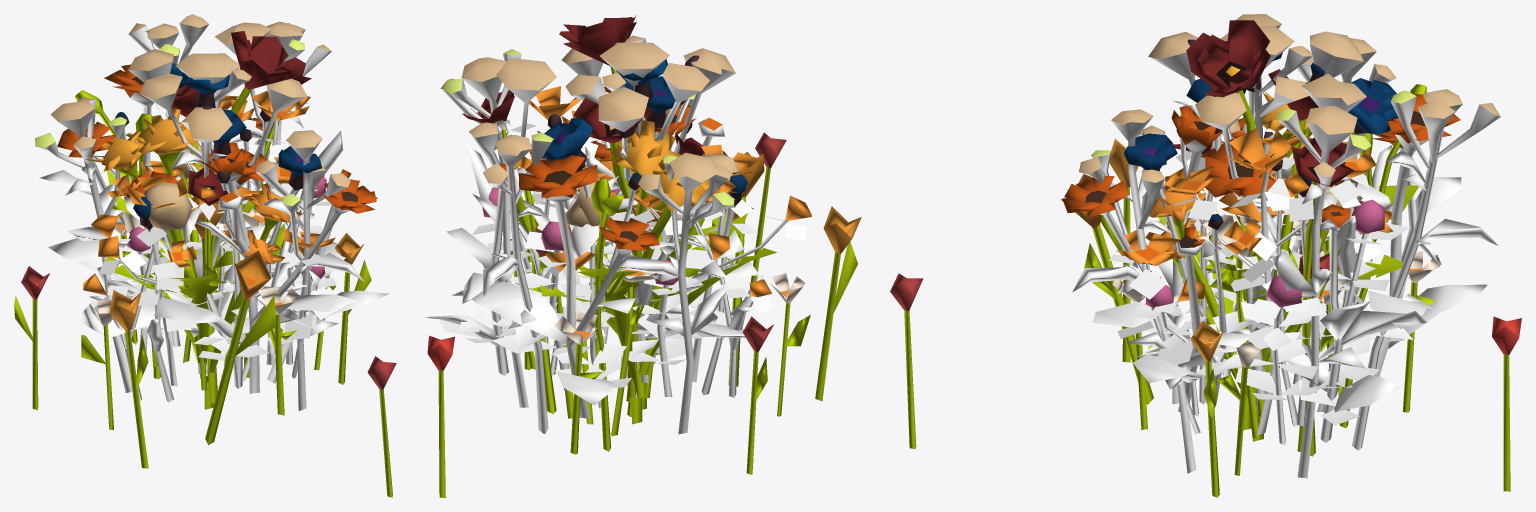
Rendered from g_flower.glb.
3 views of the same model, side by side, from view 1: azimuth 30°, elevation 25°; view 2: azimuth 150°, elevation 25°; view 3: azimuth 270°, elevation 25° (orthographic). The views are drawn at different scales.
Visible parts, largest first — view 1: v12, v1, v11, v14, v4, v9, v8, v7, v5, v2, v0, v3 (+2 smaller); view 2: v12, v1, v2, v11, v14, v4, v9, v5, v7, v8, v3, v0 (+1 smaller); view 3: v12, v1, v11, v2, v4, v14, v9, v5, v7, v0, v8, v3 (+1 smaller).
Part boxes in pixels (left/top/right/bottom): v12: left=35, top=14, right=364, bottom=410; v1: left=40, top=64, right=389, bottom=393; v11: left=67, top=90, right=345, bottom=386; v14: left=14, top=202, right=396, bottom=497; v4: left=89, top=63, right=321, bottom=402; v9: left=75, top=31, right=311, bottom=409; v8: left=85, top=130, right=284, bottom=382; v7: left=107, top=108, right=301, bottom=386; v5: left=81, top=201, right=337, bottom=429; v2: left=102, top=176, right=336, bottom=364; v0: left=76, top=142, right=285, bottom=376; v3: left=155, top=72, right=250, bottom=330; v12: left=440, top=35, right=735, bottom=434; v1: left=426, top=84, right=759, bottom=418; v2: left=439, top=187, right=718, bottom=396; v11: left=494, top=86, right=812, bottom=382; v14: left=427, top=132, right=861, bottom=497; v4: left=509, top=76, right=762, bottom=408; v9: left=462, top=15, right=704, bottom=451; v5: left=510, top=193, right=810, bottom=454; v7: left=573, top=120, right=748, bottom=398; v8: left=540, top=152, right=776, bottom=375; v3: left=609, top=55, right=699, bottom=372; v0: left=583, top=140, right=745, bottom=383; v12: left=1072, top=14, right=1500, bottom=478; v1: left=1062, top=93, right=1487, bottom=442; v11: left=1109, top=113, right=1393, bottom=435; v2: left=1133, top=199, right=1413, bottom=445; v4: left=1123, top=78, right=1398, bottom=426; v14: left=890, top=139, right=1521, bottom=497; v9: left=1173, top=20, right=1426, bottom=456; v5: left=1112, top=214, right=1441, bottom=475; v7: left=1142, top=93, right=1418, bottom=402; v0: left=1182, top=118, right=1310, bottom=353; v8: left=1145, top=92, right=1403, bottom=388; v3: left=1172, top=39, right=1325, bottom=369.
Bounding box in the file's own units: 0.7337 × 0.8583 × 1.11.
